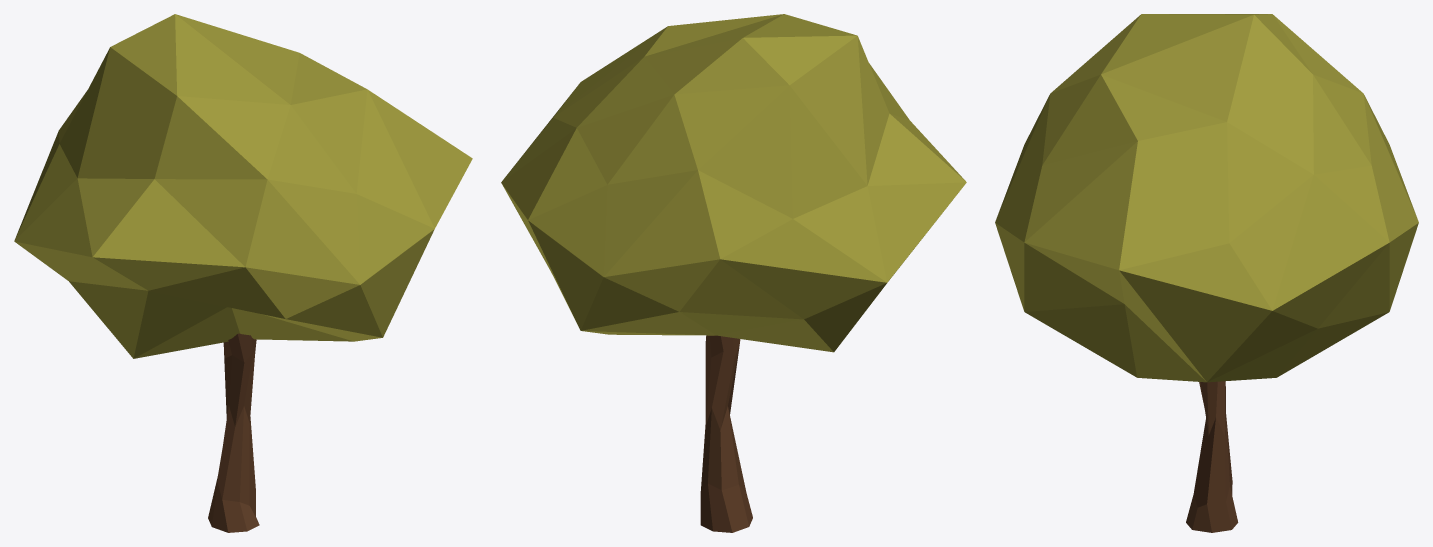
The model's file is Tree_47_Yellow.fbx.
3 views of the same model, side by side, from view 1: azimuth 30°, elevation 25°; view 2: azimuth 150°, elevation 25°; view 3: azimuth 270°, elevation 25° (orthographic). The views are drawn at different scales.
Visible parts, largest first — view 1: Tree_47_Yellow_Part_1, Tree_47_Yellow_Part_2; view 2: Tree_47_Yellow_Part_1, Tree_47_Yellow_Part_2; view 3: Tree_47_Yellow_Part_1, Tree_47_Yellow_Part_2.
Part boxes in pixels (x1,y1,x2,y2): Tree_47_Yellow_Part_1: [14, 14, 472, 358]; Tree_47_Yellow_Part_2: [208, 333, 259, 532]; Tree_47_Yellow_Part_1: [501, 14, 966, 352]; Tree_47_Yellow_Part_2: [700, 335, 752, 532]; Tree_47_Yellow_Part_1: [995, 14, 1418, 382]; Tree_47_Yellow_Part_2: [1186, 381, 1238, 532].
Size of the model in its own units: 630 by 794 by 622.
